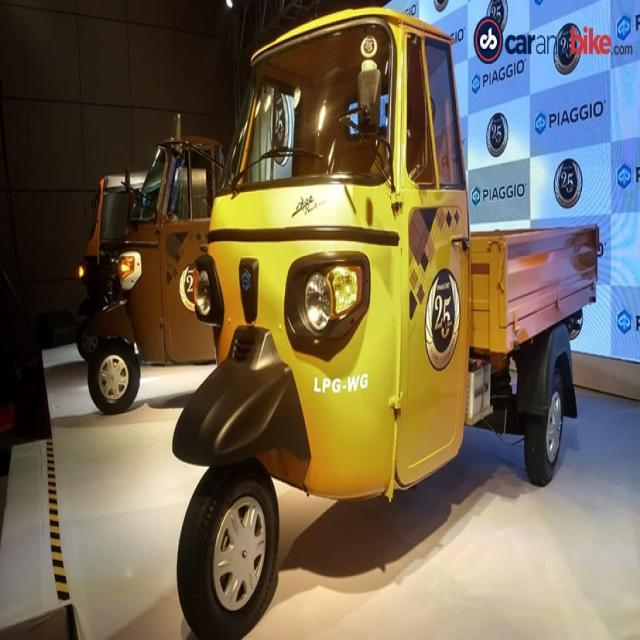autorickshaw: (172, 8, 600, 635), (88, 136, 222, 412)
